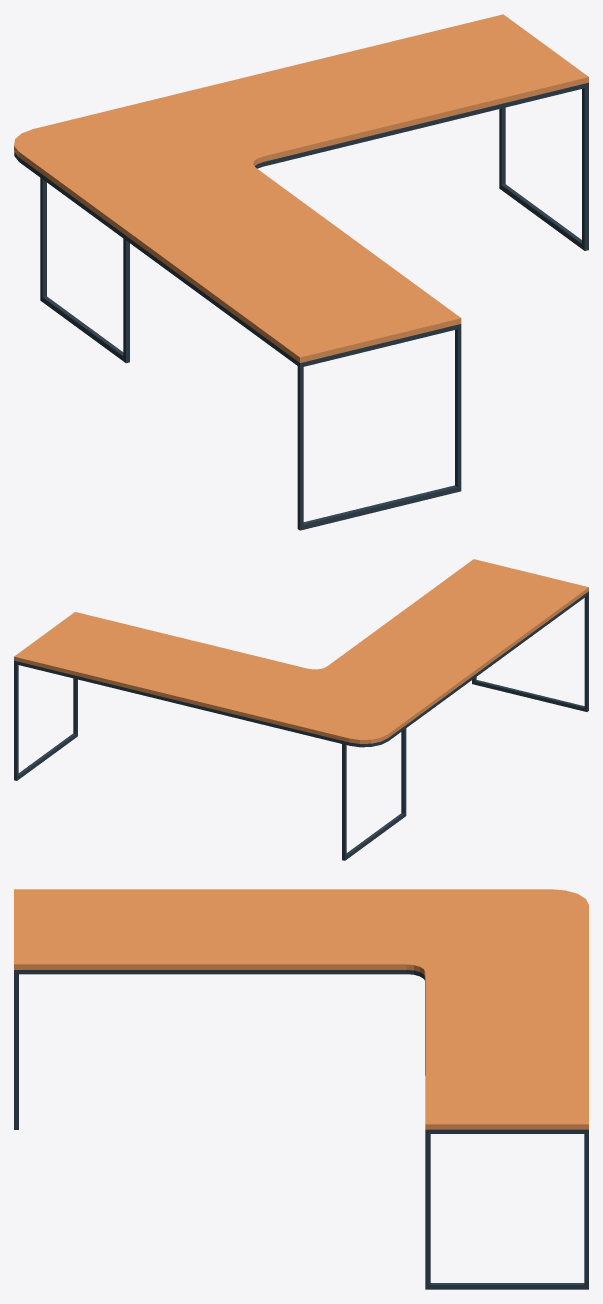
File: TableLRounded.fbx
The picture shows the model from 3 angles, top to bottom: view 1: azimuth 30°, elevation 25°; view 2: azimuth 150°, elevation 25°; view 3: azimuth 270°, elevation 25°; orthographic projection. The views are drawn at different scales.
Parts seen in each view (by area): view 1: Table L; view 2: Table L; view 3: Table L.
Boxes of the visible parts, x1,y1,x2,y2 form: Table L: (14, 14, 588, 530); Table L: (14, 559, 588, 860); Table L: (14, 889, 588, 1289).
Size of the model in its own units: 625 by 205 by 646.
